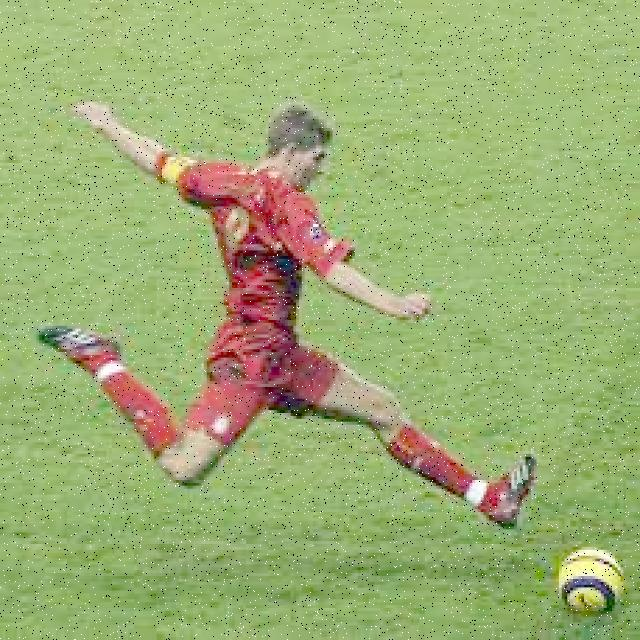shooting: (32, 93, 629, 622)
